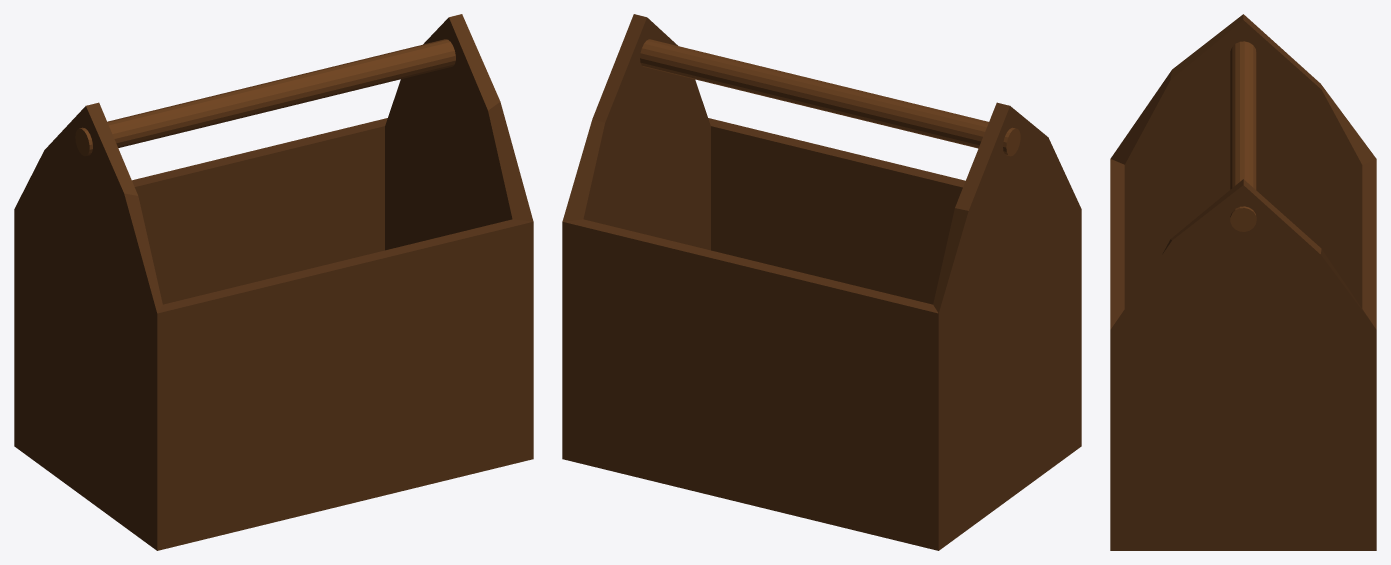
File: Werkzeugkiste.glb
3 views of the same model, side by side, from view 1: azimuth 30°, elevation 25°; view 2: azimuth 150°, elevation 25°; view 3: azimuth 270°, elevation 25° (orthographic). The views are drawn at different scales.
Parts seen in each view (by area): view 1: Werkzeugkiste; view 2: Werkzeugkiste; view 3: Werkzeugkiste.
Boxes of the visible parts, x1,y1,x2,y2 form: Werkzeugkiste: (14, 14, 533, 550); Werkzeugkiste: (562, 14, 1081, 550); Werkzeugkiste: (1110, 14, 1376, 550).
Bounding box in the file's own units: 3.1 × 3.04 × 2.
